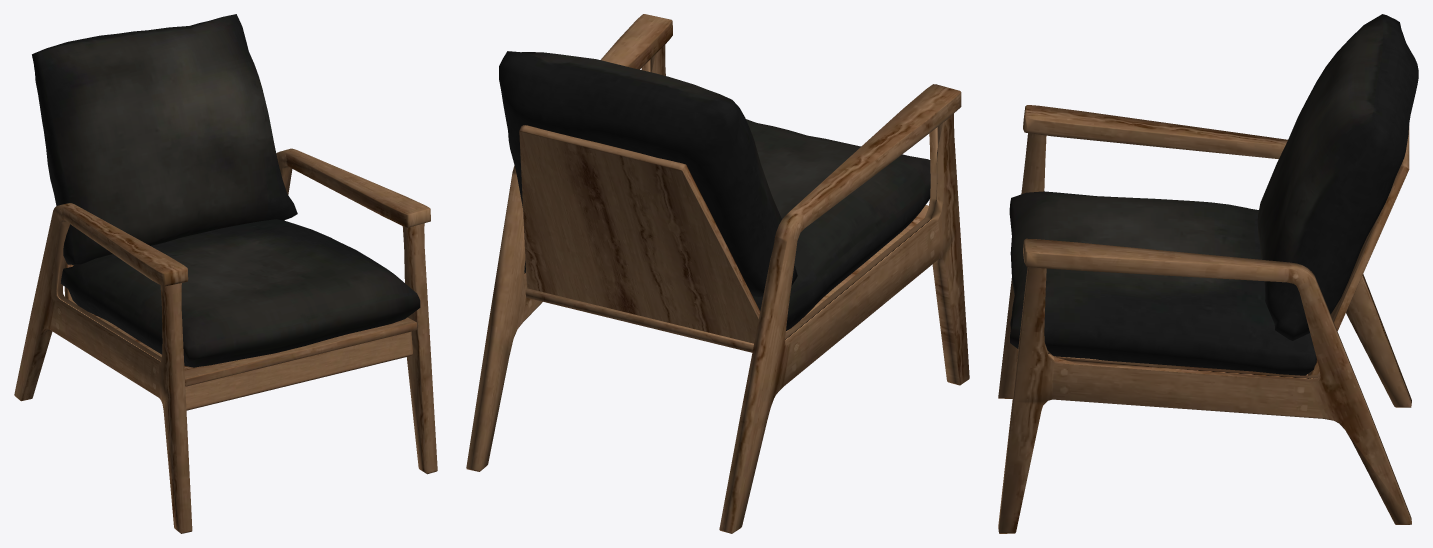
File: modern_arm_chair_01.glb
3 views of the same model, side by side, from view 1: azimuth 30°, elevation 25°; view 2: azimuth 150°, elevation 25°; view 3: azimuth 270°, elevation 25° (orthographic). The views are drawn at different scales.
Parts seen in each view (by area): view 1: modern_arm_chair_01; view 2: modern_arm_chair_01; view 3: modern_arm_chair_01.
Part boxes in pixels (x1,y1,x2,y2): modern_arm_chair_01: (14, 14, 437, 533); modern_arm_chair_01: (466, 14, 969, 533); modern_arm_chair_01: (998, 14, 1418, 533).
Bounding box in the file's own units: 0.8204 × 1.02 × 0.9863.
Materials: 2 (2 with a texture image).
